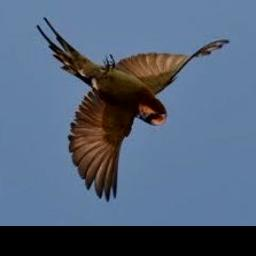Swallow: (37, 16, 231, 202)
